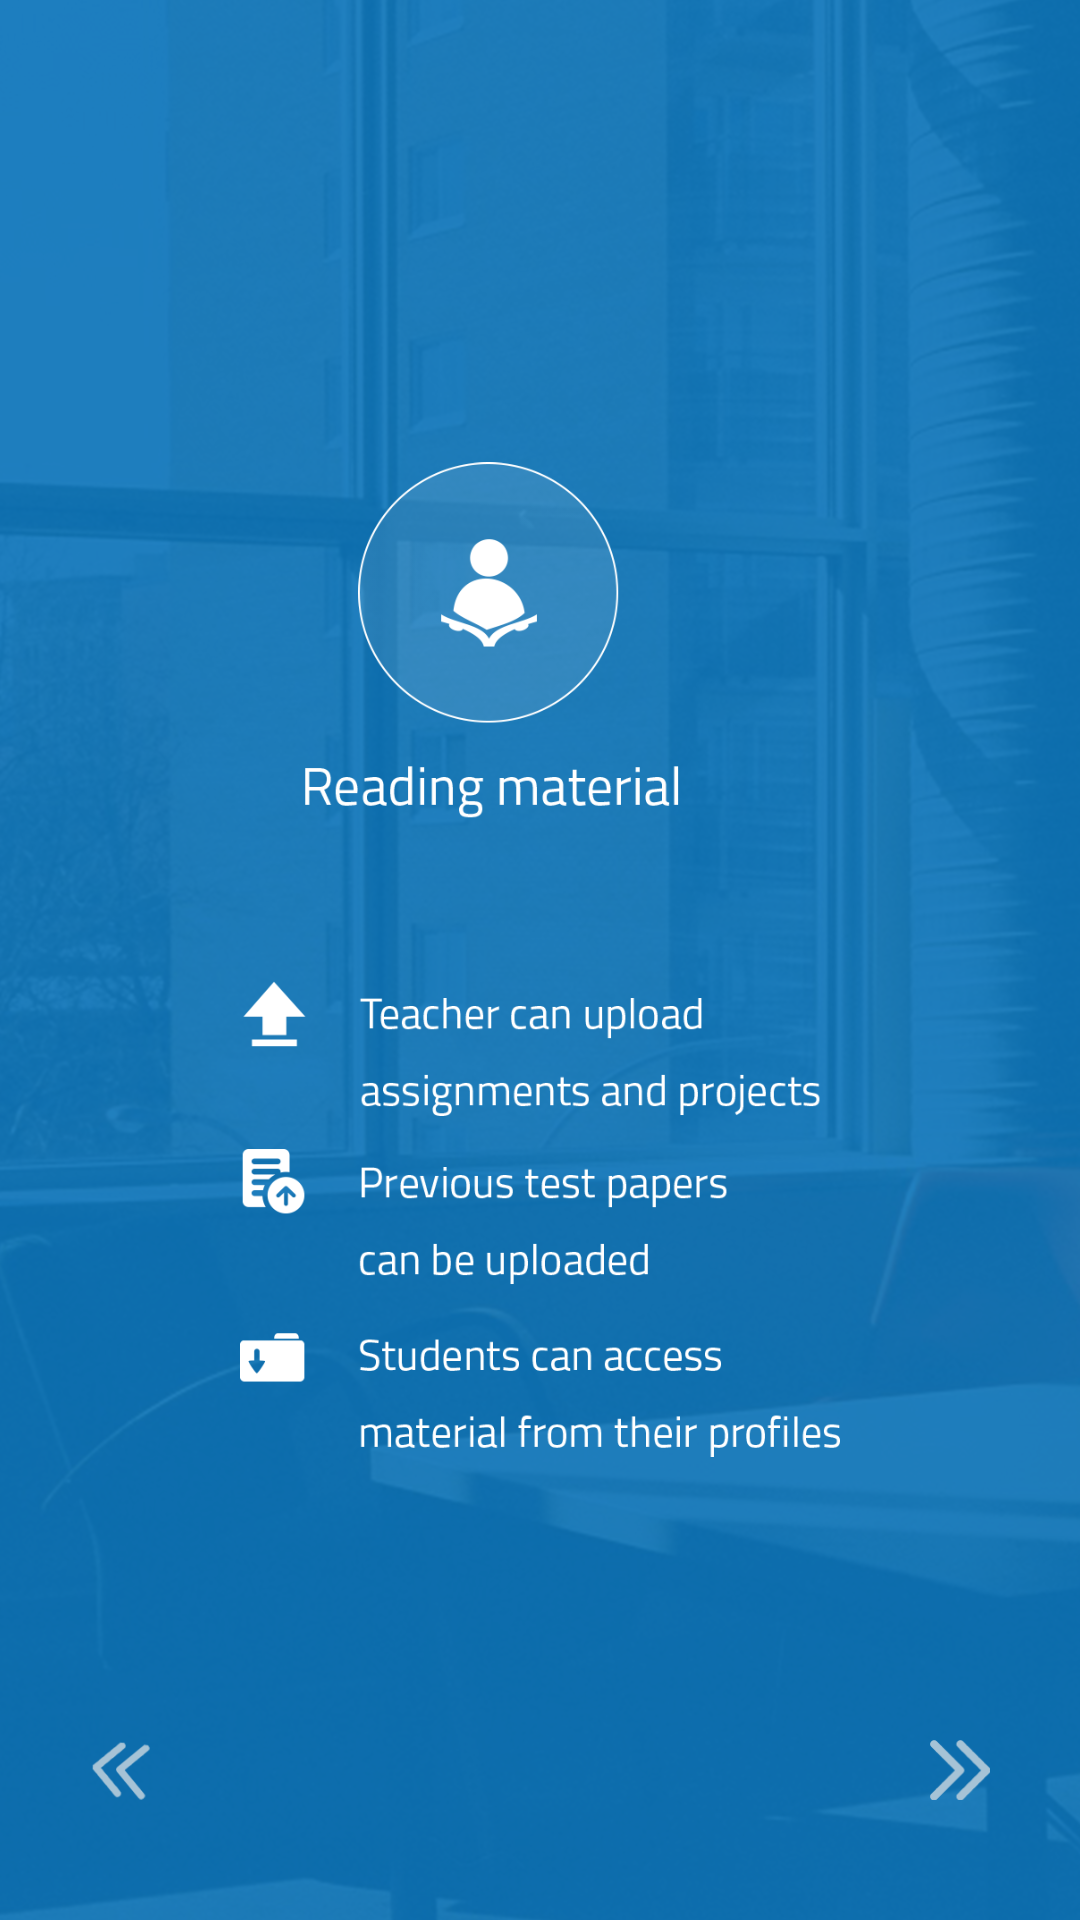

Where icons sit on this 1080×1920 app screen, as (x1, y1, x2, y2):
arrowsnext: (930, 1740, 990, 1800)
arrowsprev: (92, 1742, 150, 1800)
